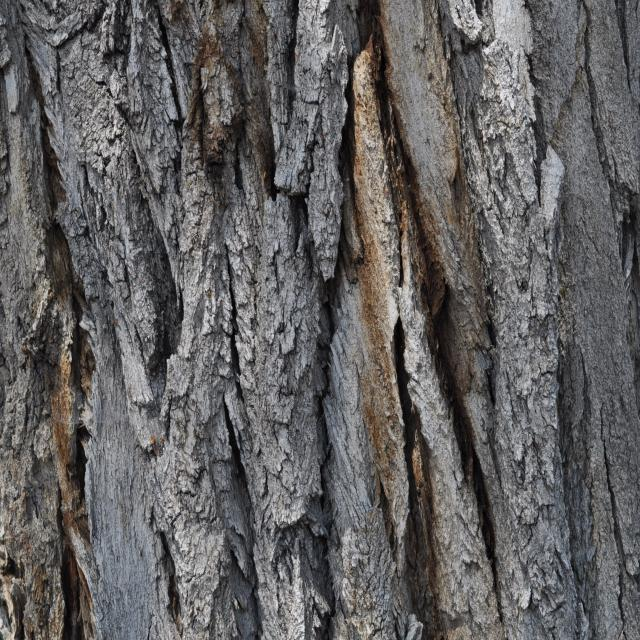Populus angustifolia: (16, 2, 640, 640)
